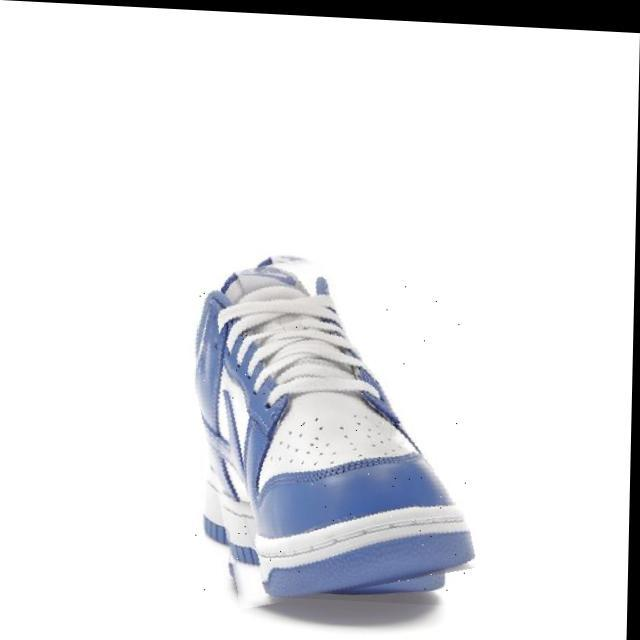J1_InsoleChar: (3, 3, 635, 636)
J1_MateComp: (193, 253, 475, 606)
J1_StitchPattern: (215, 268, 418, 451), (254, 501, 470, 570), (231, 319, 371, 402)
